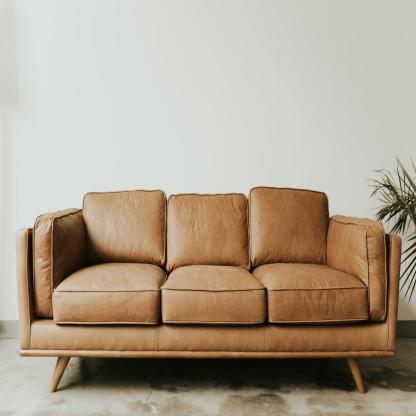Sofa: (20, 192, 386, 354)
